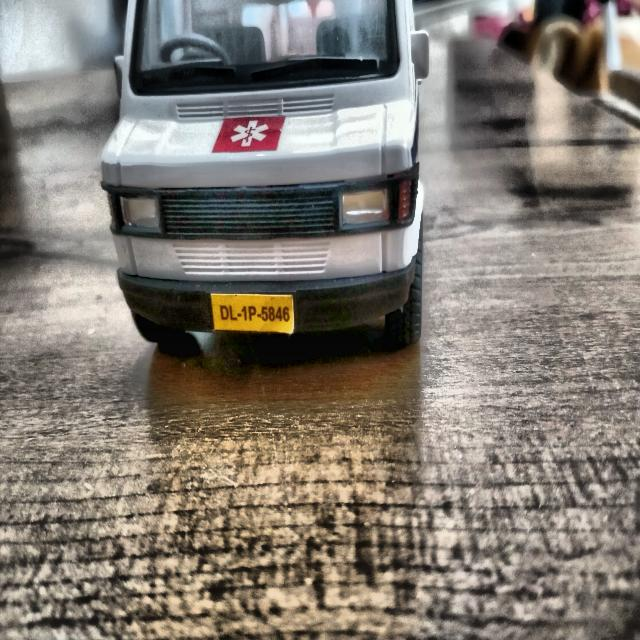Ambulance: (99, 6, 464, 376)
